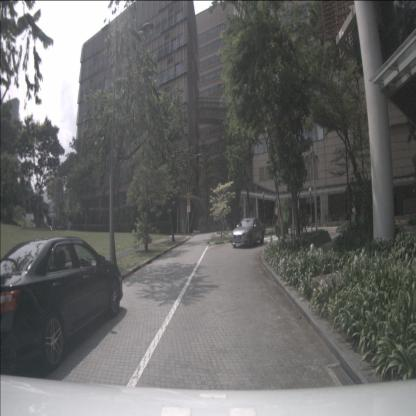vehicle-car: (0, 236, 123, 373), (231, 217, 264, 248)
